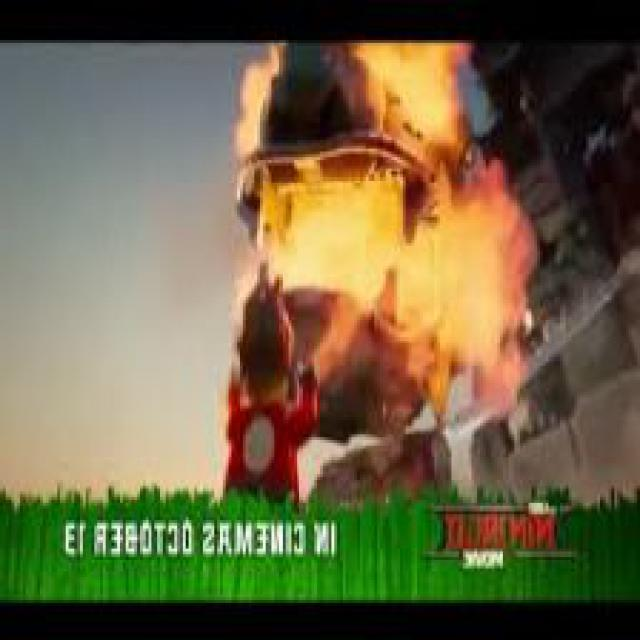fire: (206, 43, 540, 428)
